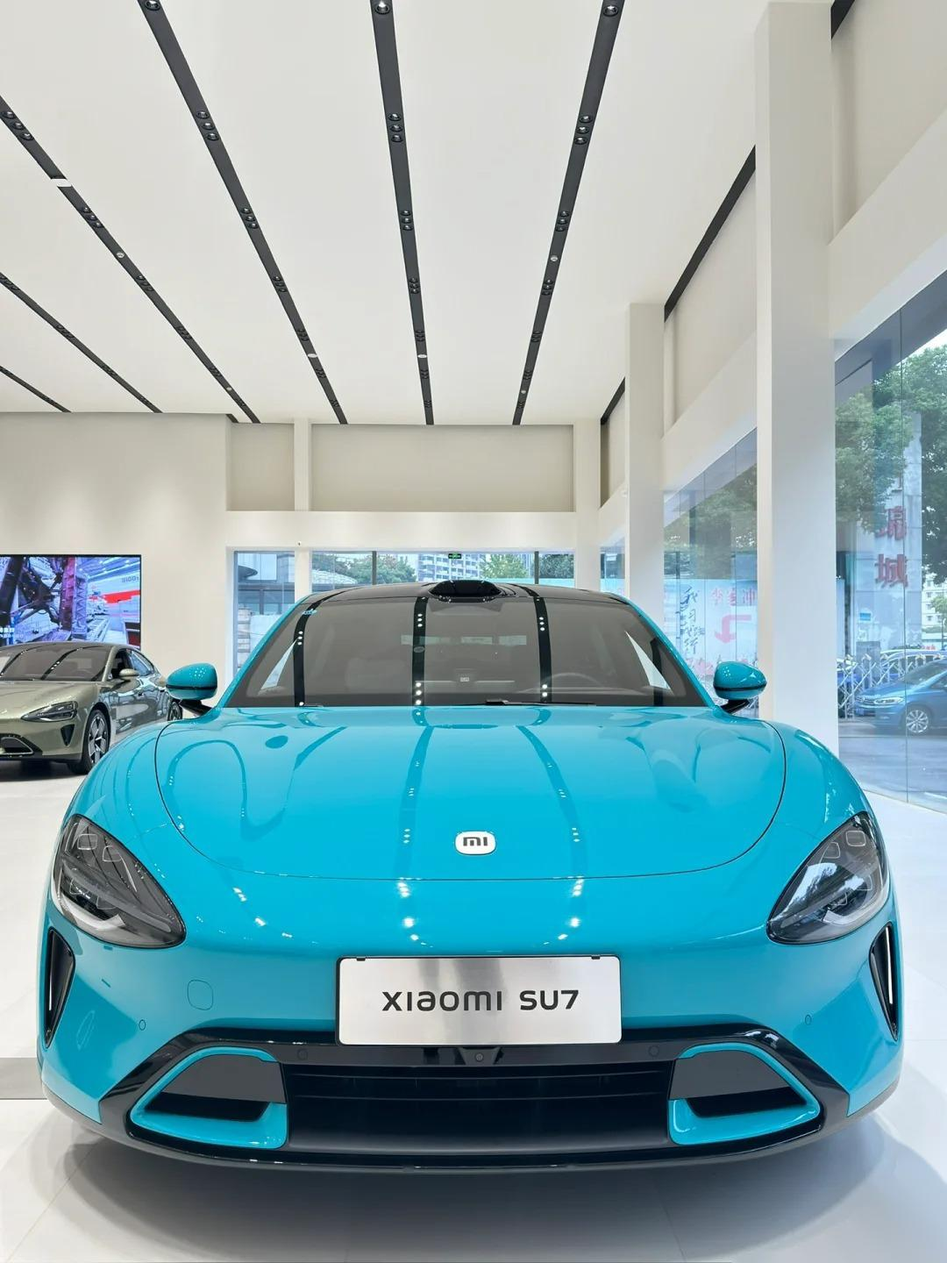su7: (42, 566, 907, 1176), (0, 631, 194, 775)
